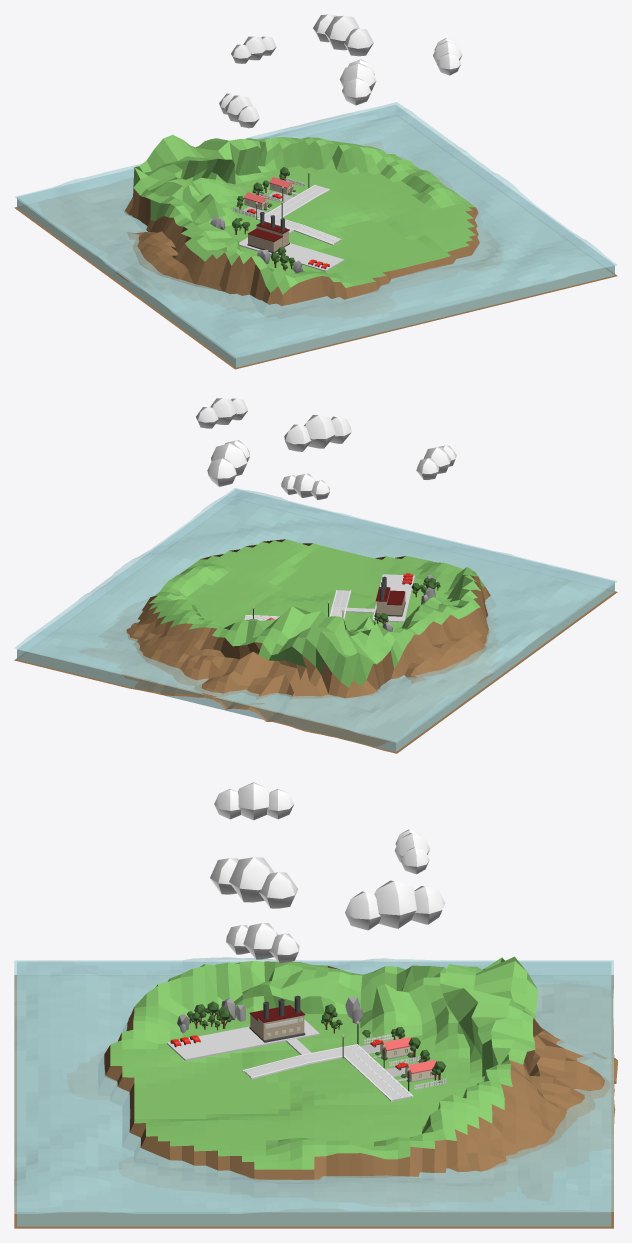
3 views of the same model, one above another, from view 1: azimuth 30°, elevation 25°; view 2: azimuth 150°, elevation 25°; view 3: azimuth 270°, elevation 25° (orthographic). The views are drawn at different scales.
Parts seen in each view (by area): view 1: Plane, Cube, Plane.2, Cloud.3, Cloud.1, Tube.3, Cloud, Cube.20, Cloud.2, Cloud.4, Cube.3; view 2: Plane, Cube, Plane.2, Cloud.1, Cloud.3, Cloud.4, Cloud, Cloud.2, Tube.3, Cube.20; view 3: Plane, Cube, Plane.2, Cloud.3, Cloud.1, Cloud, Cloud.4, Cube.20, Tube.3, Cloud.2, Cube.3.
Boxes of the visible parts, x1,y1,x2,y2 form: Plane: (14, 134, 617, 369); Cube: (17, 105, 614, 367); Plane.2: (15, 102, 617, 358); Cloud.3: (313, 14, 373, 56); Cloud.1: (339, 59, 376, 105); Tube.3: (247, 212, 289, 252); Cloud: (219, 93, 259, 128); Cube.20: (239, 237, 344, 271); Cloud.2: (231, 36, 276, 63); Cloud.4: (433, 38, 462, 75); Cube.3: (267, 185, 328, 217); Plane: (14, 539, 617, 753); Cube: (17, 489, 614, 751); Plane.2: (14, 488, 617, 742); Cloud.1: (284, 415, 351, 451); Cloud.3: (207, 440, 250, 486); Cloud.4: (196, 398, 248, 428); Cloud: (416, 445, 456, 480); Cloud.2: (281, 473, 329, 499); Tube.3: (375, 576, 405, 616); Cube.20: (372, 574, 414, 622); Plane: (14, 956, 617, 1228); Cube: (17, 961, 611, 1226); Plane.2: (14, 957, 613, 1213); Cloud.3: (345, 880, 445, 930); Cloud.1: (210, 857, 297, 908); Cloud: (214, 782, 293, 820); Cloud.4: (226, 923, 299, 963); Cube.20: (167, 1019, 319, 1060); Tube.3: (249, 995, 305, 1042); Cloud.2: (394, 829, 429, 874); Cube.3: (342, 1052, 411, 1101).
Size of the model in its own units: 5003 by 2377 by 5034.
